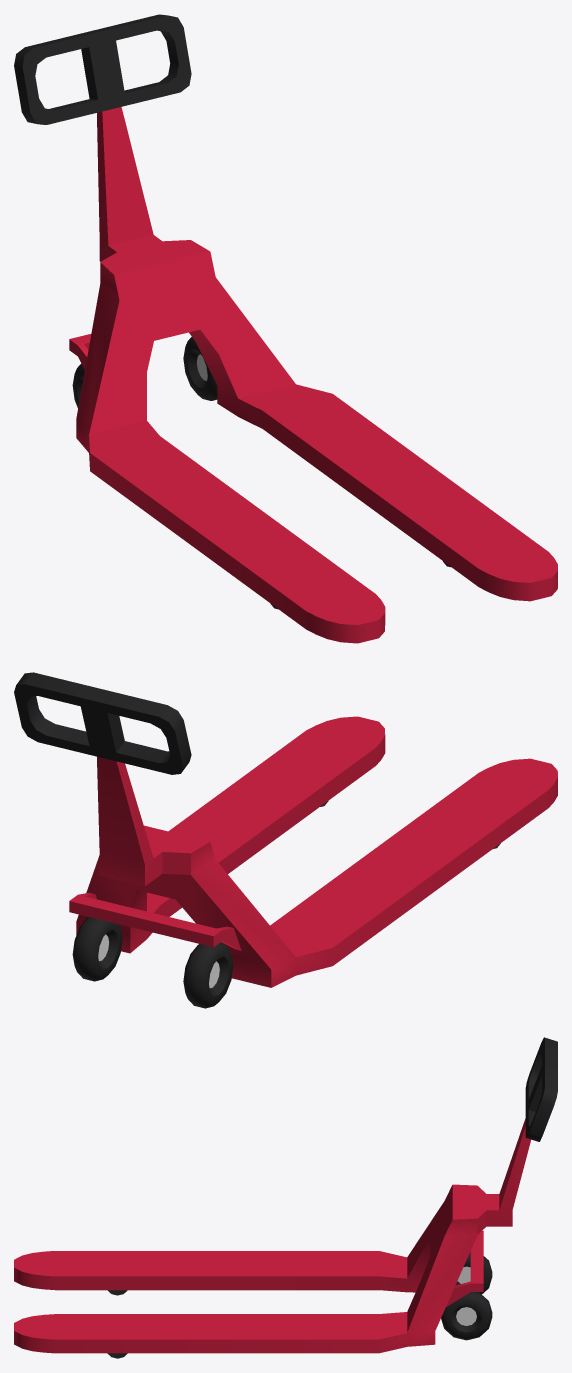
File: Carrinho de Peso.fbx
3 renders of one model, top to bottom at view 1: azimuth 30°, elevation 25°; view 2: azimuth 150°, elevation 25°; view 3: azimuth 270°, elevation 25°, orthographic. The views are drawn at different scales.
Parts seen in each view (by area): view 1: Cubo.039; view 2: Cubo.039; view 3: Cubo.039.
Boxes of the visible parts, left/top/right/bottom form: Cubo.039: left=14, top=14, right=557, bottom=643; Cubo.039: left=14, top=672, right=557, bottom=1008; Cubo.039: left=14, top=1037, right=557, bottom=1358.
Size of the model in its own units: 328 by 440 by 848.
